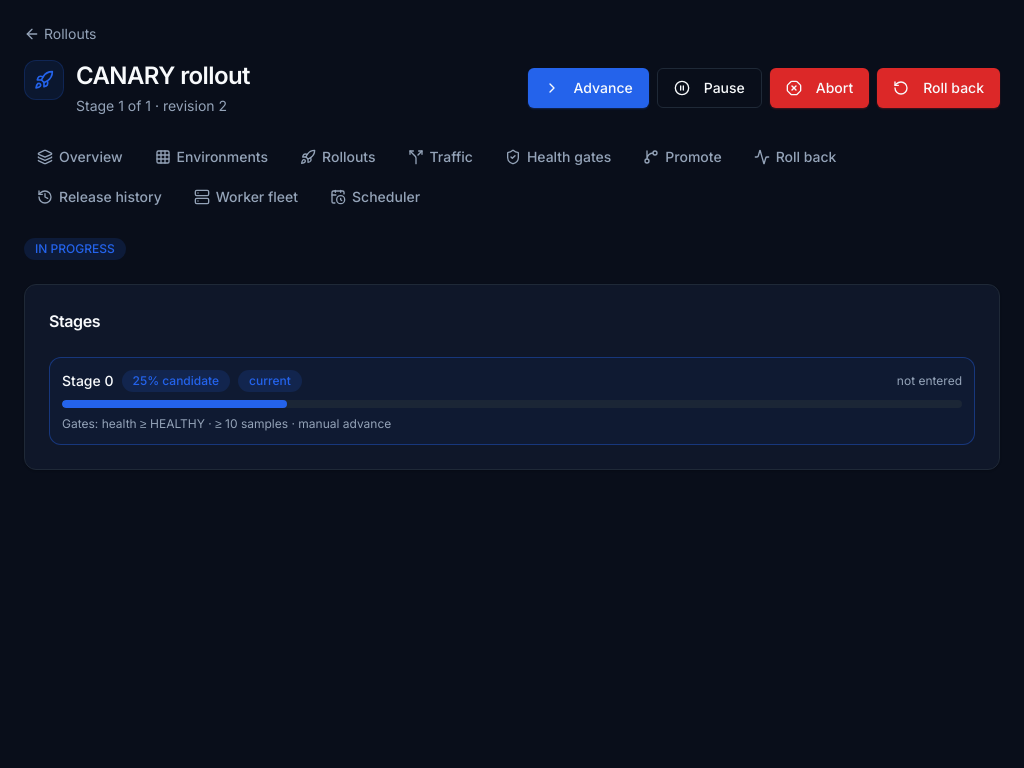
Test: AC-09 — dangerous actions are confirmation-gated › requires typing ABORT before aborting a rollout
This screenshot has width=1024, height=768.
What coordinates should you click on to do the following:
click the button "Abort"
I would click on:
 (820, 88)
Its box is left=770, top=68, right=869, bottom=108.
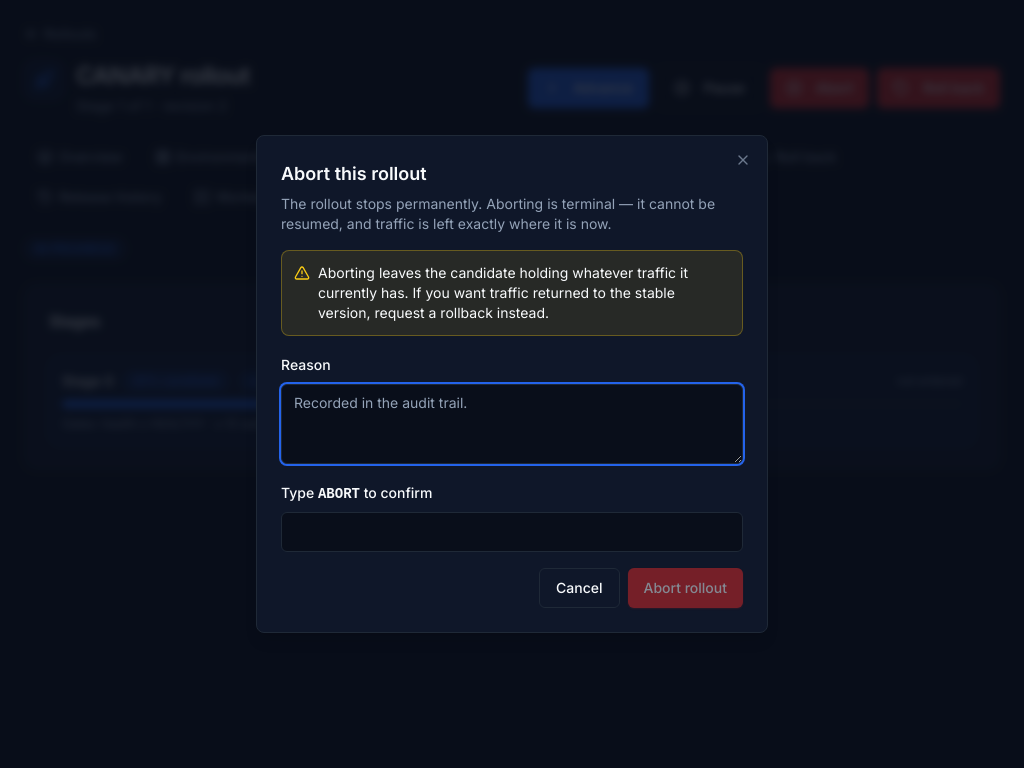
Now the button "Abort rollout" is disabled, box left=628, top=568, right=743, bottom=608
